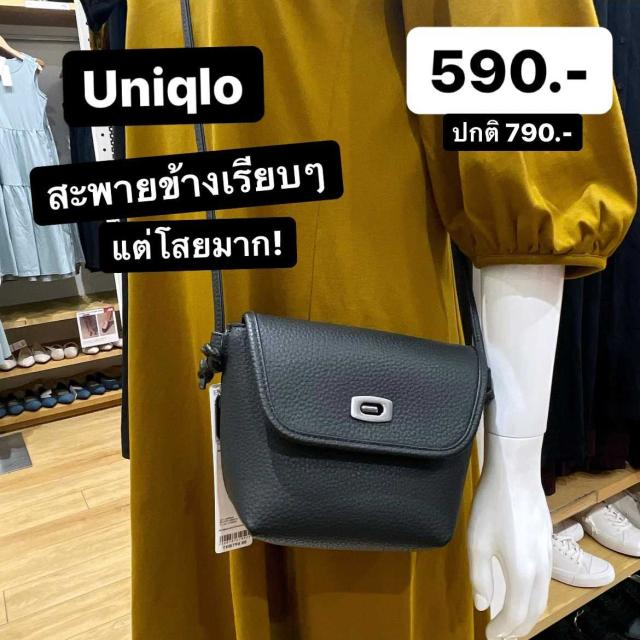handbag: (212, 314, 486, 550)
